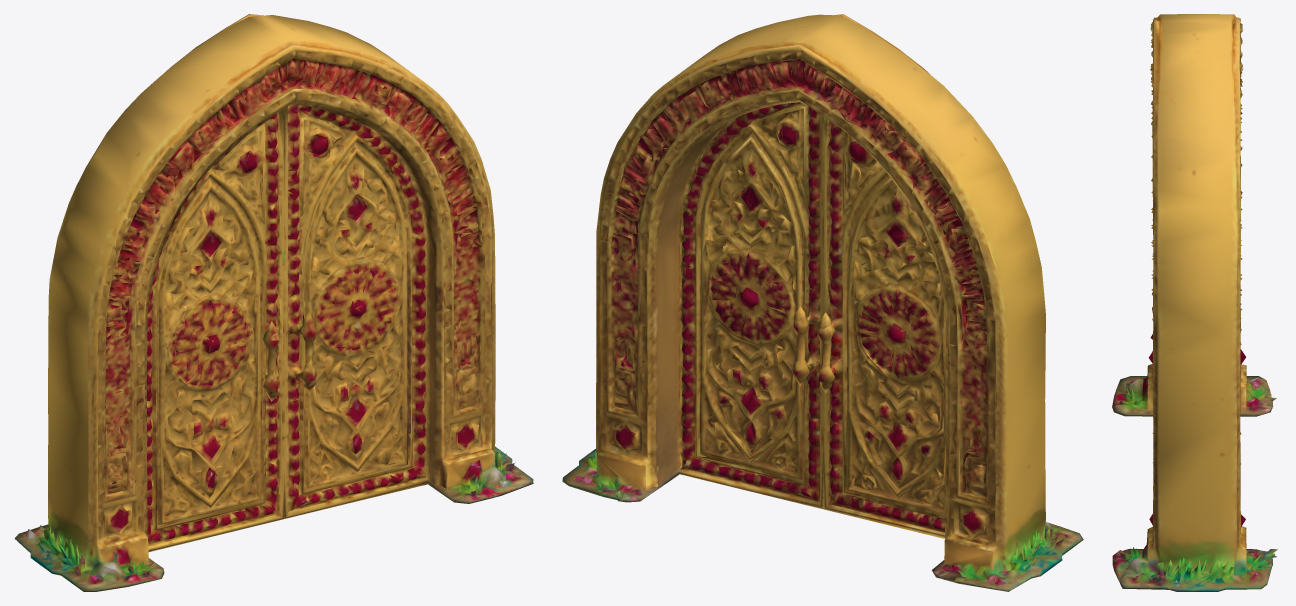
File: Ruby_Gold_Arched_Gate.fbx
3 renders of one model, left to right at view 1: azimuth 30°, elevation 25°; view 2: azimuth 150°, elevation 25°; view 3: azimuth 270°, elevation 25°, orthographic. The views are drawn at different scales.
Parts seen in each view (by area): view 1: Ruby_Gold_Arched_Gate_LOD0; view 2: Ruby_Gold_Arched_Gate_LOD0; view 3: Ruby_Gold_Arched_Gate_LOD0.
Part boxes in pixels (bbox=[...]): Ruby_Gold_Arched_Gate_LOD0: bbox=[14, 14, 533, 591]; Ruby_Gold_Arched_Gate_LOD0: bbox=[562, 14, 1083, 591]; Ruby_Gold_Arched_Gate_LOD0: bbox=[1112, 14, 1277, 591].
Size of what is drawn, in the model's own units: 1.9 by 1.9 by 0.6314.
Materials: 1 (1 with a texture image).
